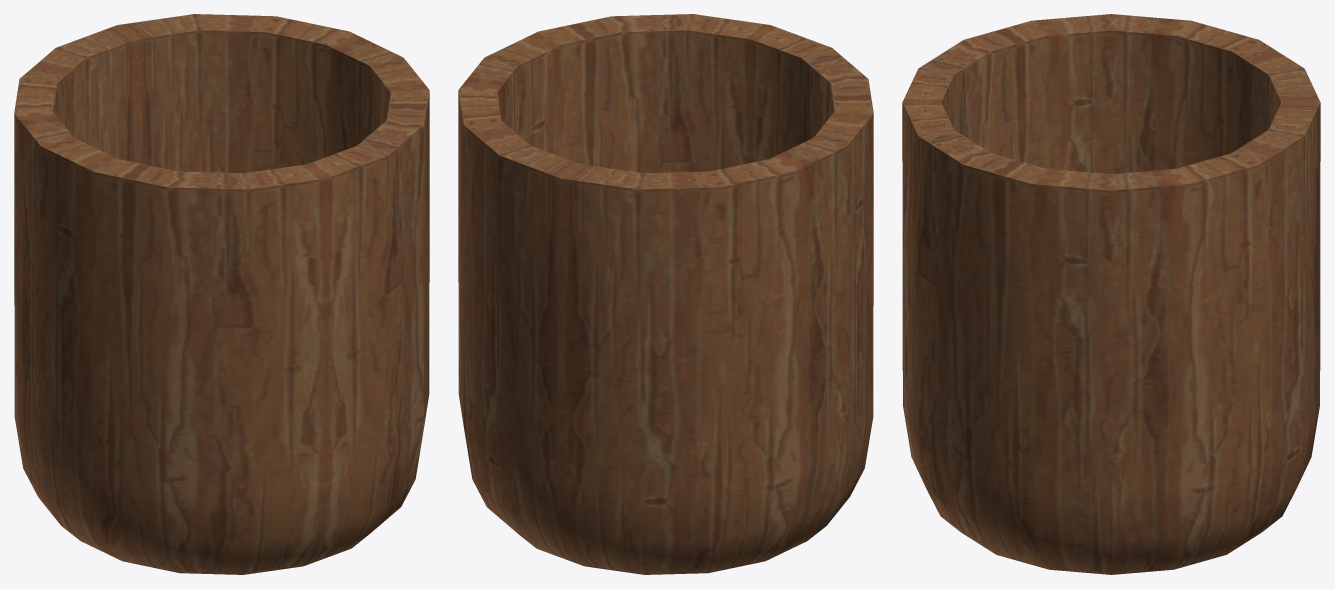
File: SM_Farm_FoodContainer_03.fbx
The picture shows the model from 3 angles, left to right: view 1: azimuth 30°, elevation 25°; view 2: azimuth 150°, elevation 25°; view 3: azimuth 270°, elevation 25°; orthographic projection.
Visible parts, largest first — view 1: SM_Farm_FoodContainer_03_LOD0; view 2: SM_Farm_FoodContainer_03_LOD0; view 3: SM_Farm_FoodContainer_03_LOD0.
Boxes of the visible parts, x1,y1,x2,y2 form: SM_Farm_FoodContainer_03_LOD0: (14, 14, 429, 574); SM_Farm_FoodContainer_03_LOD0: (458, 14, 873, 574); SM_Farm_FoodContainer_03_LOD0: (902, 14, 1320, 574).
Size of what is drawn, in the model's own units: 53.32 by 56.8 by 53.32.
